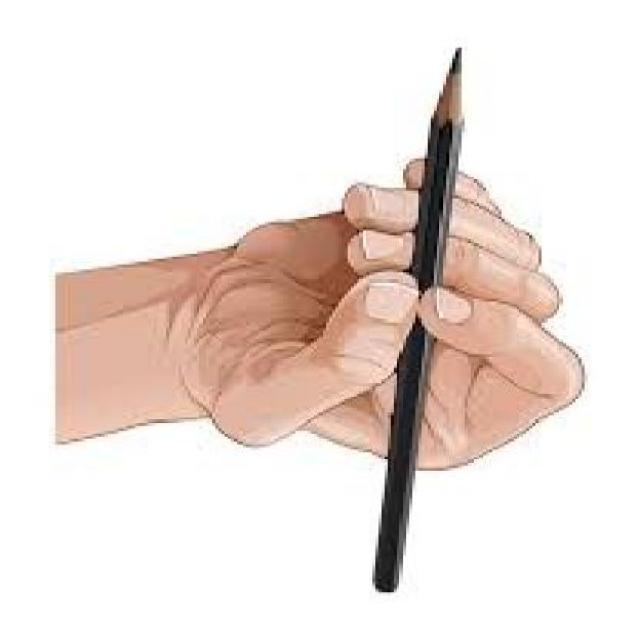Pencil: (422, 44, 471, 158)
